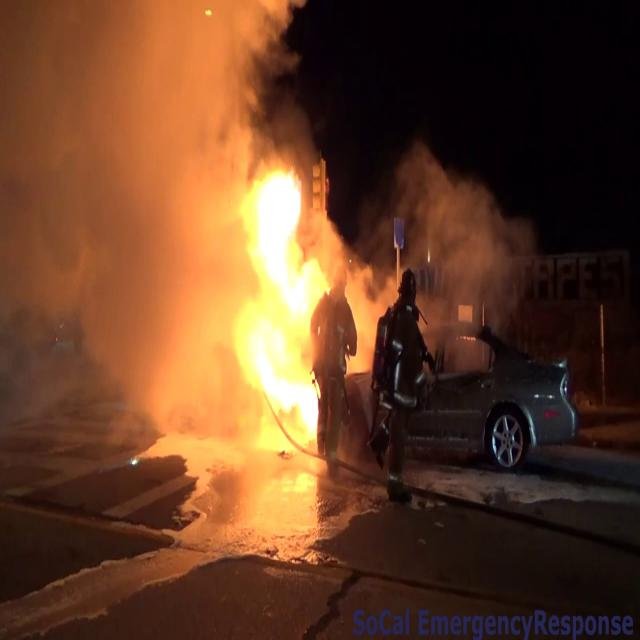Fire: (188, 158, 332, 462)
Smoke: (0, 0, 241, 452)
